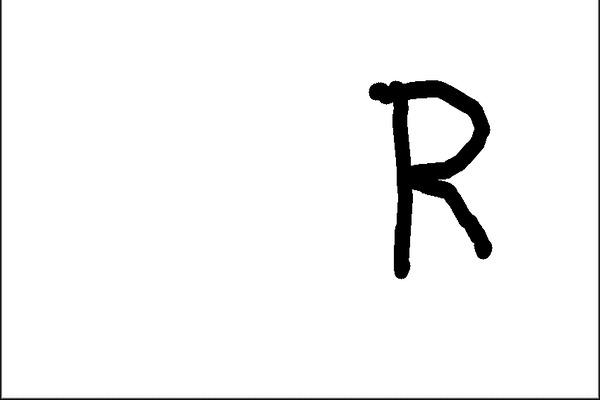R: (363, 59, 514, 281)
